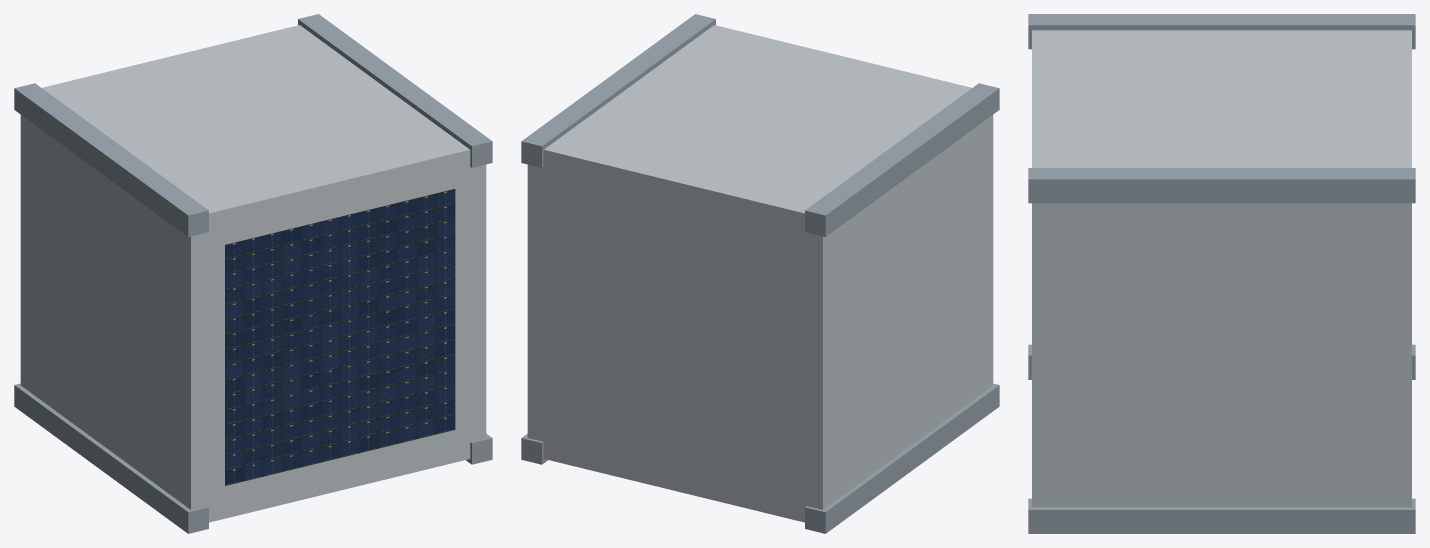
File: ref-cubesat-1u-53106.glb
3 views of the same model, side by side, from view 1: azimuth 30°, elevation 25°; view 2: azimuth 150°, elevation 25°; view 3: azimuth 270°, elevation 25° (orthographic). The views are drawn at different scales.
Parts seen in each view (by area): view 1: Spacecraft body, Body-mounted cells, Dispenser rail (×4); view 2: Spacecraft body, Dispenser rail (×4); view 3: Spacecraft body, Dispenser rail (×3).
Boxes of the visible parts, x1,y1,x2,y2 form: Spacecraft body: [20, 25, 486, 522]; Body-mounted cells: [225, 189, 455, 485]; Dispenser rail (×4): [14, 14, 492, 533]; Spacecraft body: [527, 25, 993, 522]; Dispenser rail (×4): [521, 14, 999, 533]; Spacecraft body: [1032, 30, 1411, 507]; Dispenser rail (×3): [1028, 14, 1415, 533].
Size of the model in its own units: 0.103 by 0.103 by 0.102.
3 materials, 1 textured.
